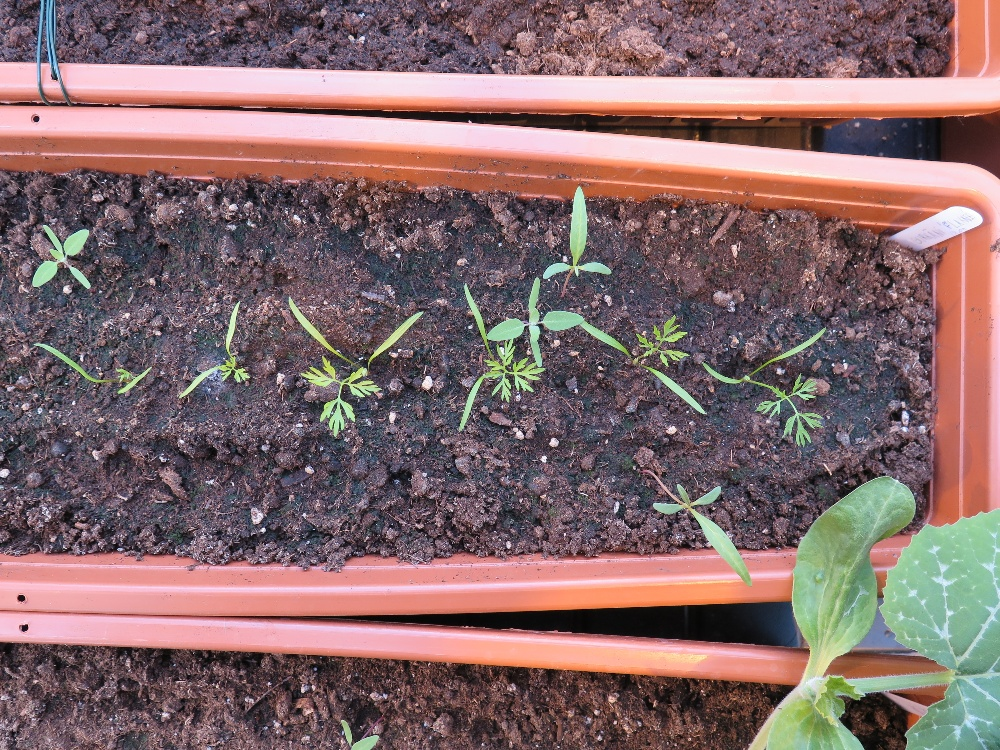crop: (287, 296, 430, 440), (693, 325, 840, 461), (564, 306, 724, 426), (450, 282, 546, 431), (177, 299, 250, 400), (30, 339, 154, 398)
weed: (650, 482, 752, 588), (481, 274, 587, 371), (541, 183, 613, 280), (31, 220, 91, 289)
